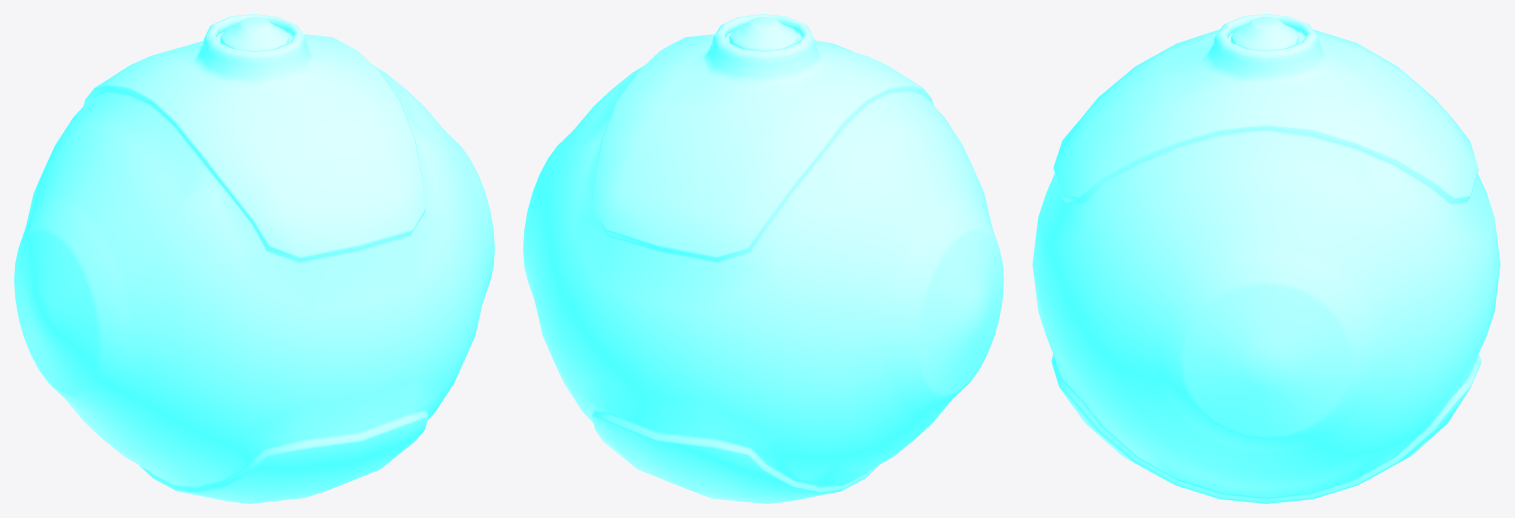
File: scifigrenade01-1.glb
The picture shows the model from 3 angles, left to right: view 1: azimuth 30°, elevation 25°; view 2: azimuth 150°, elevation 25°; view 3: azimuth 270°, elevation 25°; orthographic projection.
Parts seen in each view (by area): view 1: SciFiGrenade01_1; view 2: SciFiGrenade01_1; view 3: SciFiGrenade01_1.
Boxes of the visible parts, left/top/right/bottom form: SciFiGrenade01_1: left=14, top=14, right=494, bottom=503; SciFiGrenade01_1: left=523, top=14, right=1003, bottom=503; SciFiGrenade01_1: left=1032, top=14, right=1500, bottom=503.
Size of the model in its own units: 0.1584 by 0.1618 by 0.1496.
